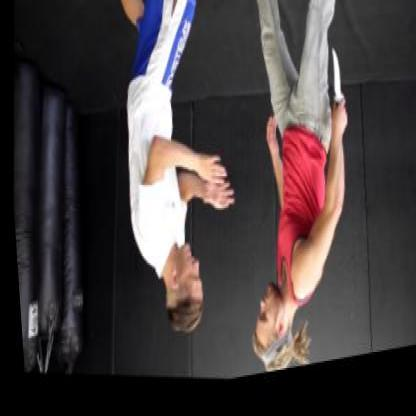knife: (322, 53, 354, 148)
